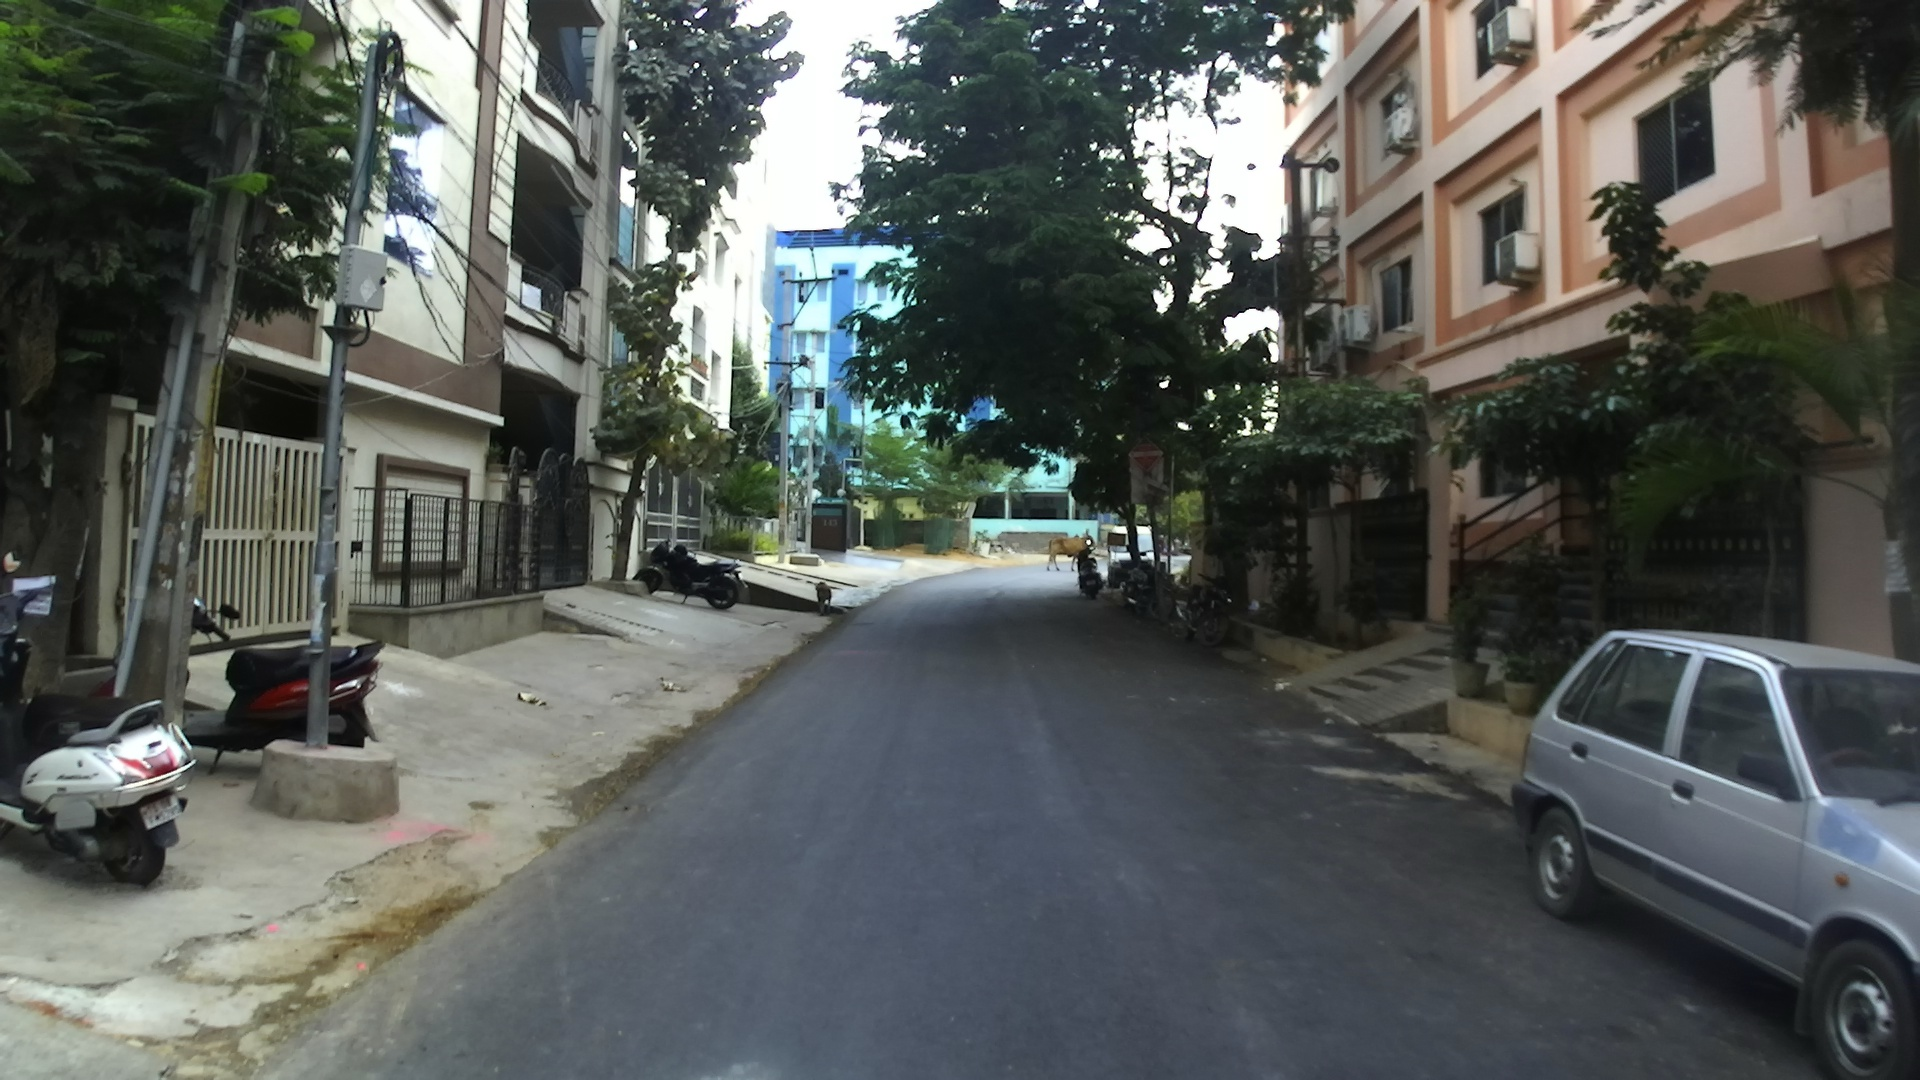vehicle: (1509, 629, 1917, 1073), (3, 696, 198, 887), (637, 541, 744, 609)
